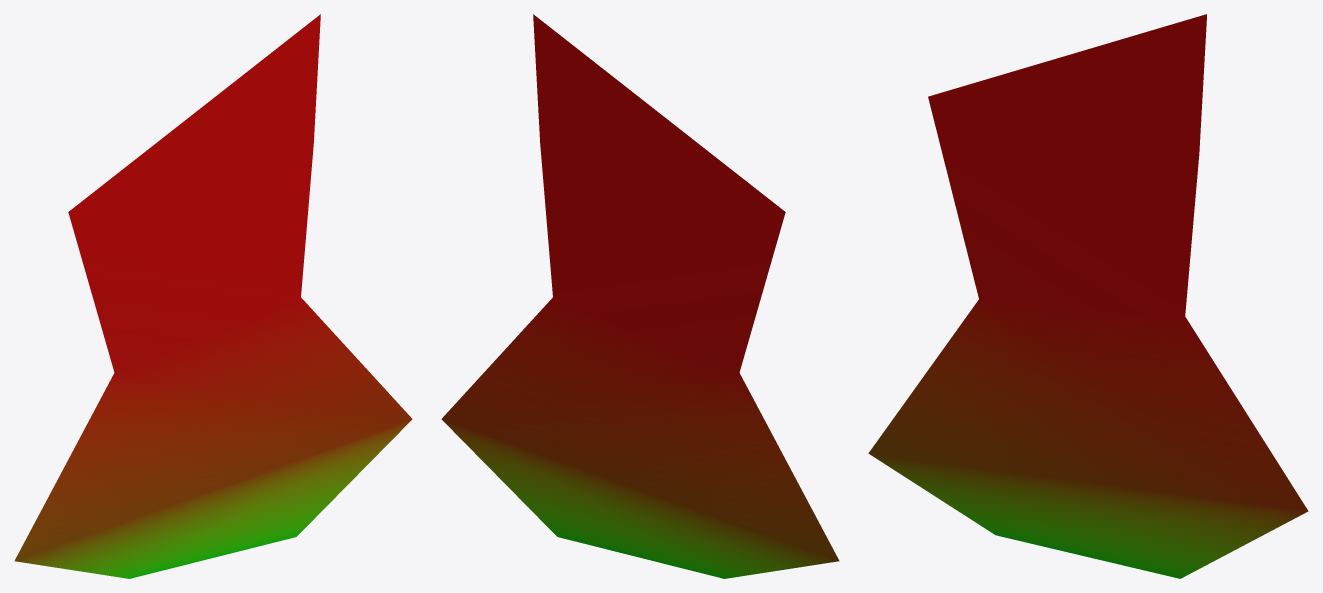
Rendered from White Everlasting_LOD5_Var9_ucvobbbia.fbx.
The picture shows the model from 3 angles, left to right: view 1: azimuth 30°, elevation 25°; view 2: azimuth 150°, elevation 25°; view 3: azimuth 330°, elevation 25°; orthographic projection. The views are drawn at different scales.
Visible parts, largest first — view 1: _931d_Var9_LOD5; view 2: _931d_Var9_LOD5; view 3: _931d_Var9_LOD5.
Part boxes in pixels (x1,y1,x2,y2): _931d_Var9_LOD5: [14, 14, 412, 578]; _931d_Var9_LOD5: [441, 14, 839, 578]; _931d_Var9_LOD5: [868, 14, 1308, 578].
Size of the model in its own units: 36.49 by 45.37 by 4.59e-06.
